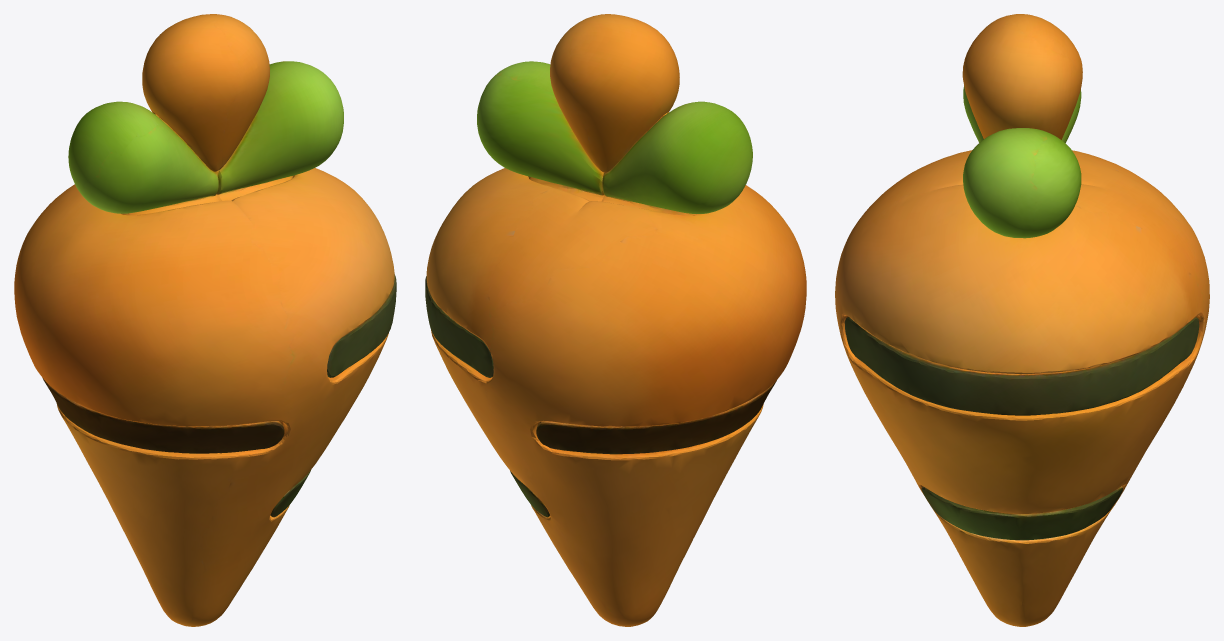
The model's file is carrot.glb.
3 renders of one model, left to right at view 1: azimuth 30°, elevation 25°; view 2: azimuth 150°, elevation 25°; view 3: azimuth 270°, elevation 25°, orthographic.
Visible parts, largest first — view 1: model; view 2: model; view 3: model.
Part boxes in pixels (x1,y1,x2,y2): model: (14,14,396,626); model: (425,14,806,626); model: (835,14,1209,626).
Size of the model in its own units: 0.5886 by 1 by 0.559.
Materials: 1 (1 with a texture image).
